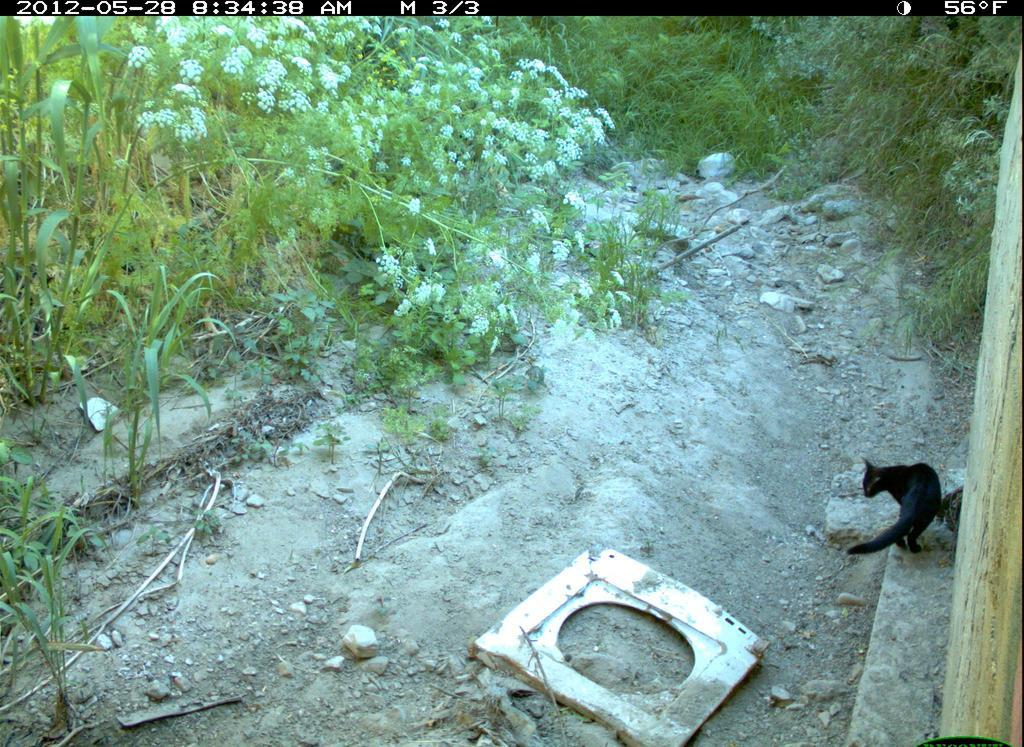opossum: (844, 452, 954, 578)
